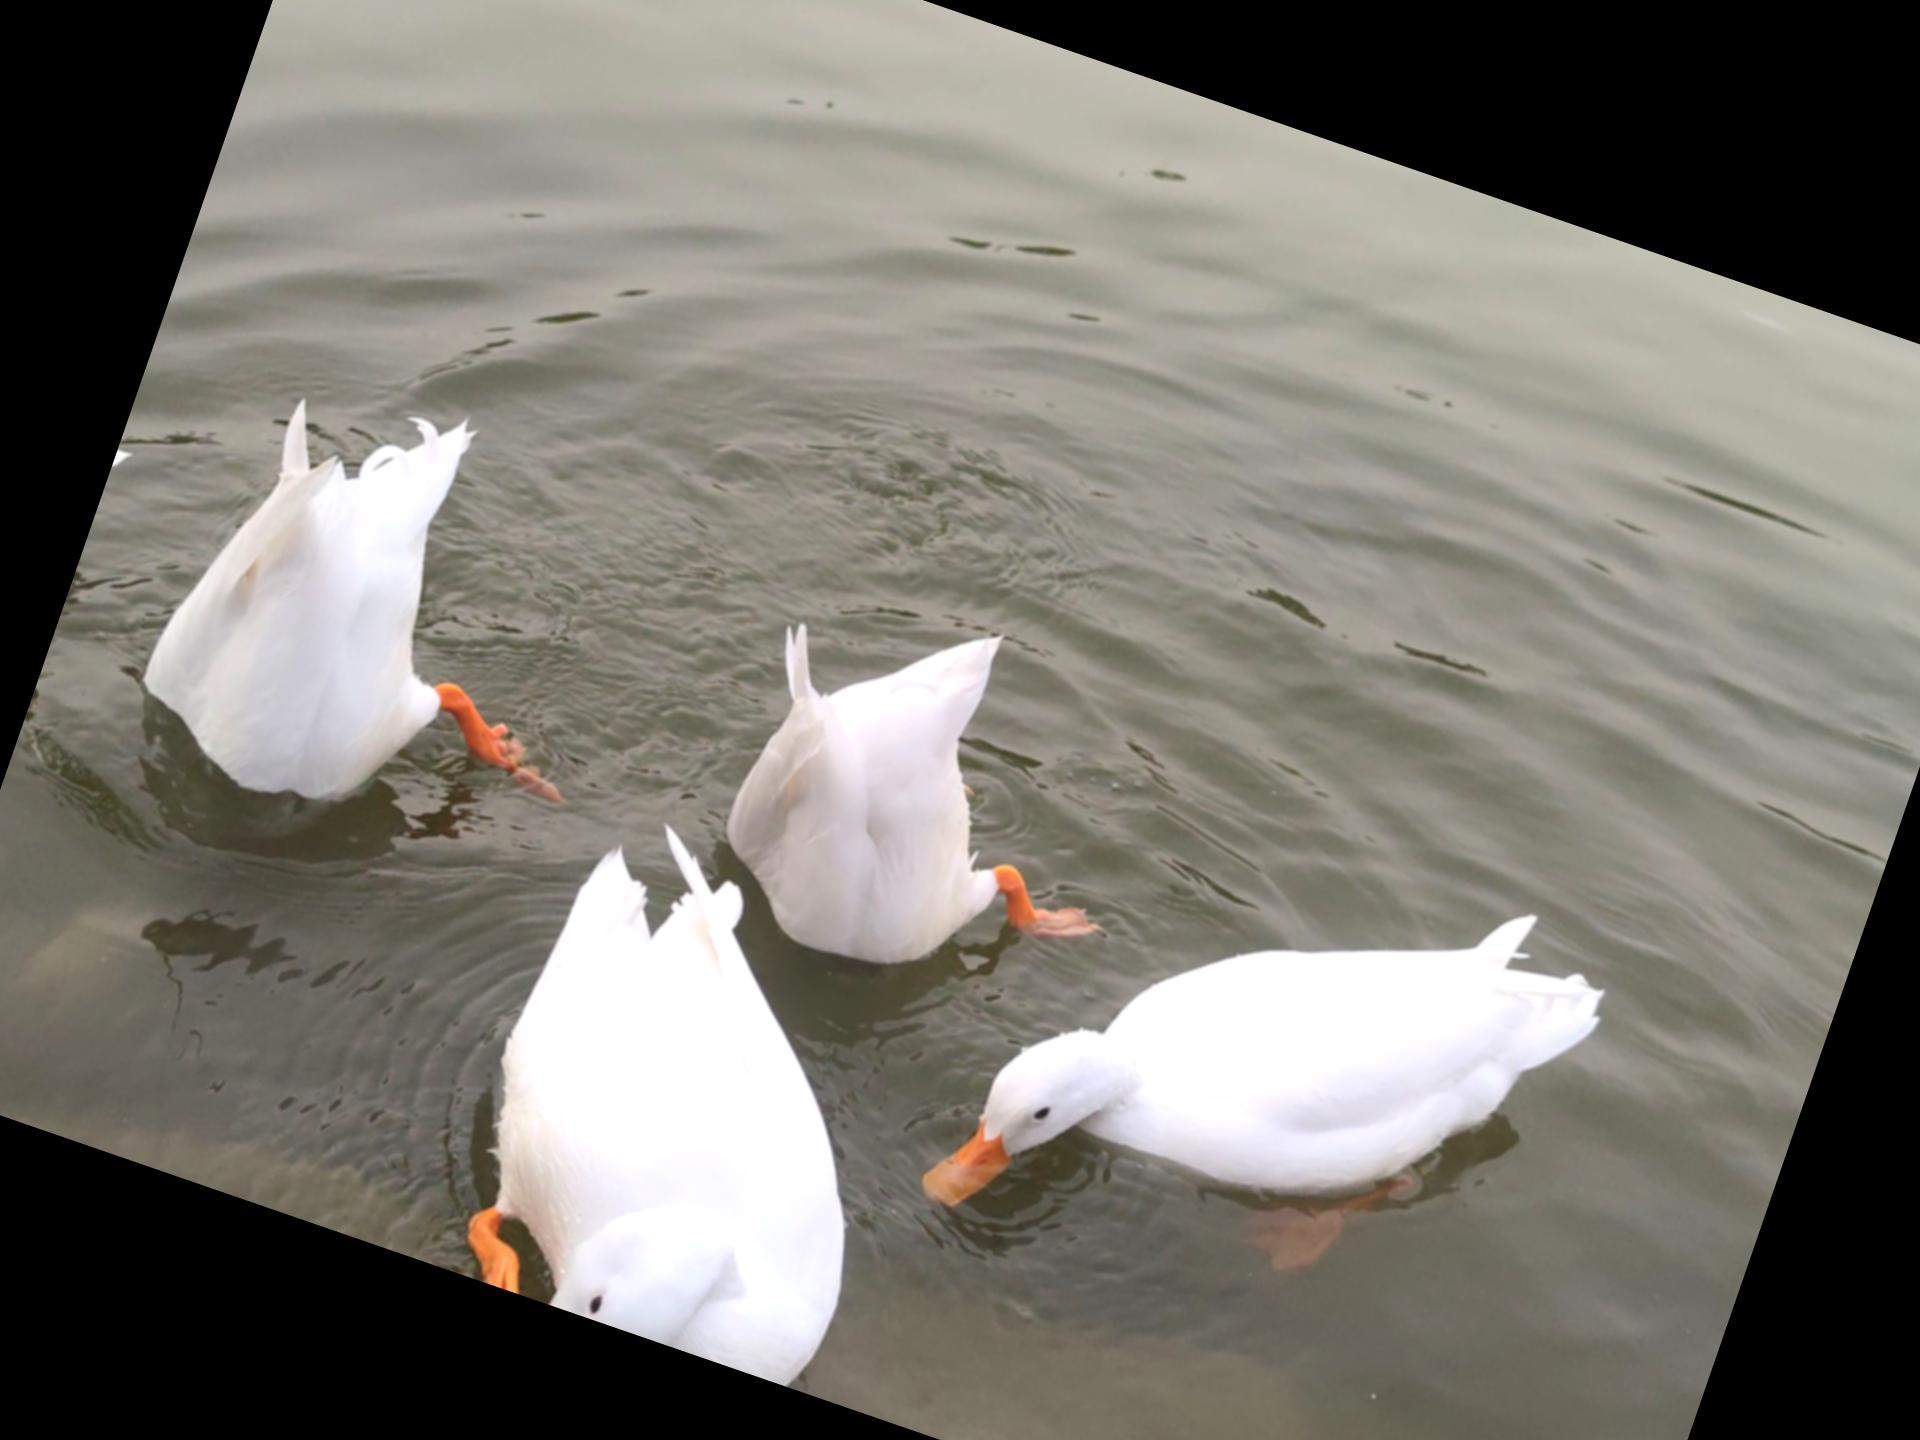duck: (878, 737, 1649, 1435), (392, 767, 1022, 1410), (98, 312, 683, 886), (668, 532, 1200, 1041)
